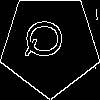Q: (25, 19, 70, 58)
